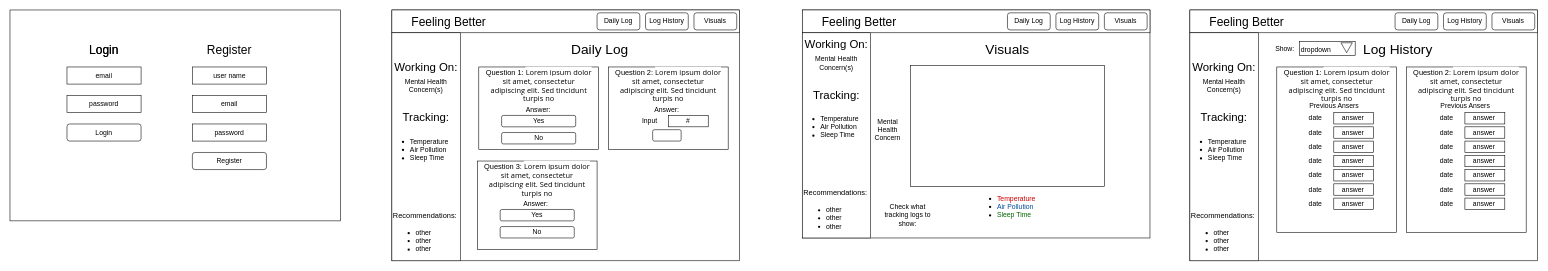
This 1548x271 diagram has some shape labels left out. The shapes that lost their labels are listed below. From the top down, each one's centre as x and y in pixels, then its label:
At point (666, 135): "Submit".
At point (1007, 126): "graph".
